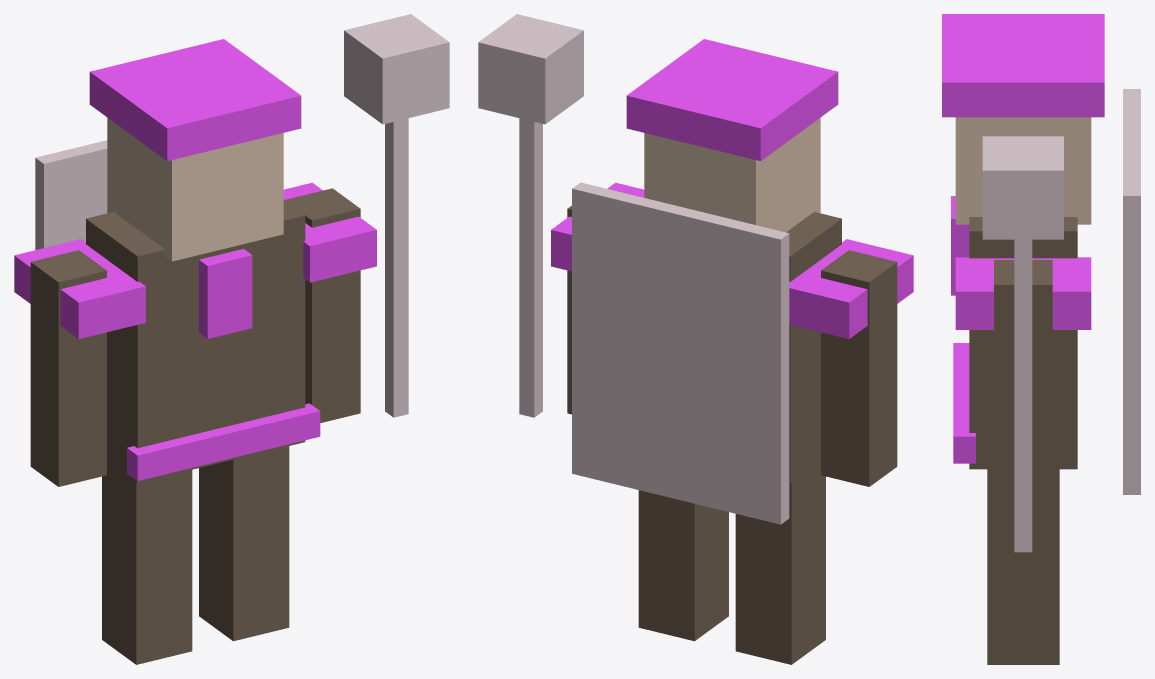
Rendered from 17_thorne_starfall_ranger_of_emergency.glb.
3 views of the same model, side by side, from view 1: azimuth 30°, elevation 25°; view 2: azimuth 150°, elevation 25°; view 3: azimuth 270°, elevation 25° (orthographic). The views are drawn at different scales.
Parts seen in each view (by area): view 1: Thorne Starfall, Ranger of Emergency; view 2: Thorne Starfall, Ranger of Emergency; view 3: Thorne Starfall, Ranger of Emergency.
Part boxes in pixels (x1,y1,x2,y2): Thorne Starfall, Ranger of Emergency: (14, 14, 449, 664); Thorne Starfall, Ranger of Emergency: (478, 14, 913, 664); Thorne Starfall, Ranger of Emergency: (942, 14, 1140, 664).
Bounding box in the file's own units: 1.05 × 1.44 × 0.4479.
